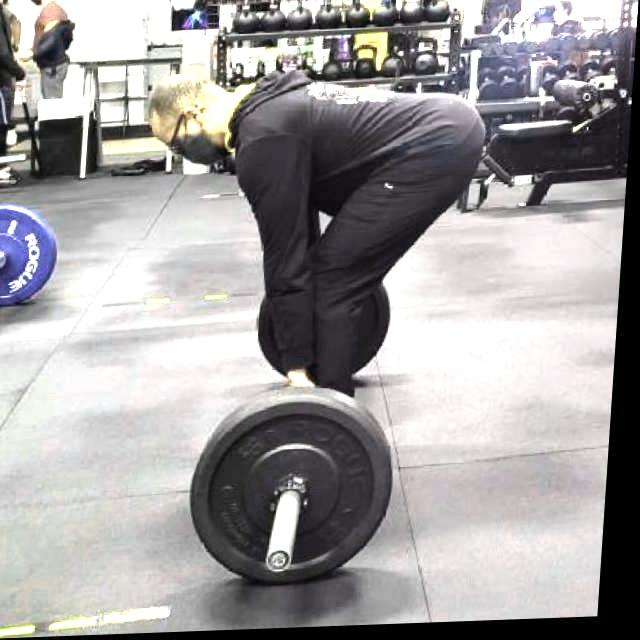barbell: (190, 390, 409, 597)
